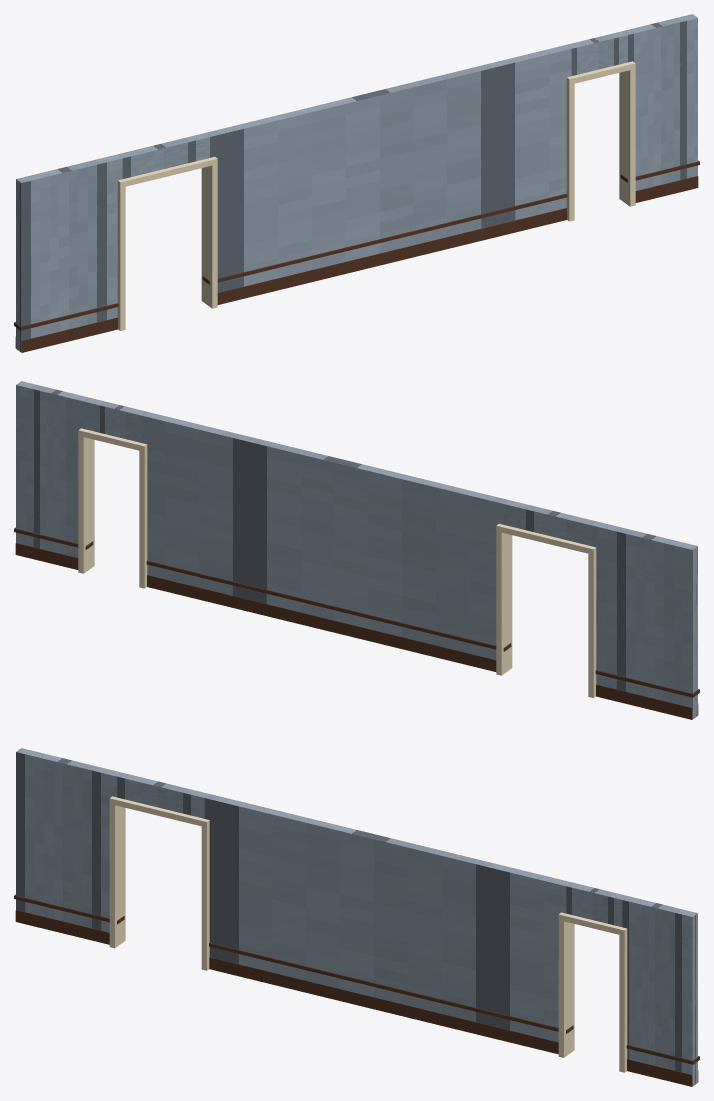
Rendered from hall_front.glb.
3 renders of one model, top to bottom at view 1: azimuth 30°, elevation 25°; view 2: azimuth 150°, elevation 25°; view 3: azimuth 330°, elevation 25°, orthographic.
Parts seen in each view (by area): view 1: Box3, Box1, Box5, Box4, Box10, Box7, Box13, Box8, Box18, Box17, Box9, Box12 (+4 smaller); view 2: Box3, Box1, Box5, Box4, Box10, Box7, Box13, Box8, Box18, Box9, Box12, Box2 (+3 smaller); view 3: Box3, Box1, Box5, Box4, Box9, Box7, Box12, Box8, Box18, Box10, Box13, Box2 (+2 smaller).
Part boxes in pixels (bbox=[...]): Box3: bbox=[205, 45, 571, 292]; Box1: bbox=[16, 154, 122, 352]; Box5: bbox=[623, 14, 697, 190]; Box4: bbox=[217, 208, 566, 304]; Box10: bbox=[201, 157, 217, 308]; Box7: bbox=[117, 133, 209, 178]; Box13: bbox=[619, 61, 635, 206]; Box8: bbox=[566, 31, 627, 75]; Box18: bbox=[202, 193, 567, 284]; Box17: bbox=[270, 198, 566, 278]; Box9: bbox=[117, 179, 125, 330]; Box12: bbox=[566, 76, 574, 221]; Box3: bbox=[142, 412, 508, 659]; Box1: bbox=[591, 521, 697, 719]; Box5: bbox=[16, 381, 90, 557]; Box4: bbox=[147, 575, 496, 671]; Box10: bbox=[496, 524, 512, 675]; Box7: bbox=[504, 500, 596, 545]; Box13: bbox=[78, 428, 94, 573]; Box8: bbox=[86, 398, 147, 442]; Box18: bbox=[146, 560, 511, 651]; Box9: bbox=[588, 546, 596, 697]; Box12: bbox=[139, 443, 147, 588]; Box2: bbox=[596, 684, 698, 719]; Box3: bbox=[204, 794, 571, 1042]; Box1: bbox=[16, 748, 122, 932]; Box5: bbox=[622, 896, 697, 1086]; Box4: bbox=[209, 957, 558, 1054]; Box9: bbox=[109, 796, 125, 948]; Box7: bbox=[117, 773, 209, 818]; Box12: bbox=[558, 912, 574, 1057]; Box8: bbox=[566, 882, 627, 926]; Box18: bbox=[209, 943, 573, 1033]; Box10: bbox=[201, 819, 209, 970]; Box13: bbox=[619, 927, 627, 1072]; Box2: bbox=[15, 910, 109, 944].
Size of the model in its own units: 10.89 by 2.6 by 0.3.
3 materials, 1 textured.
